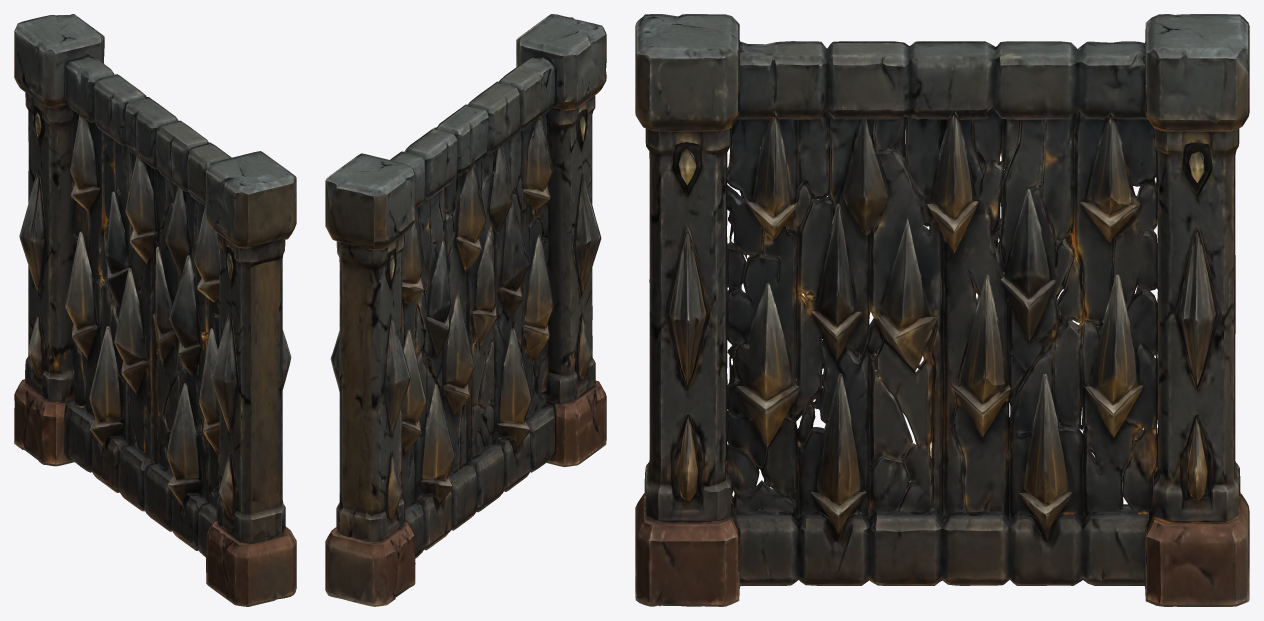
File: HellWall_SpikeBasalt_A_UnrealReady.glb
The picture shows the model from 3 angles, left to right: view 1: azimuth 30°, elevation 25°; view 2: azimuth 150°, elevation 25°; view 3: azimuth 270°, elevation 25°; orthographic projection. The views are drawn at different scales.
Parts seen in each view (by area): view 1: HellWall_SpikeBasalt_A_UnrealReady; view 2: HellWall_SpikeBasalt_A_UnrealReady; view 3: HellWall_SpikeBasalt_A_UnrealReady.
Boxes of the visible parts, x1,y1,x2,y2 form: HellWall_SpikeBasalt_A_UnrealReady: (14,14,296,606); HellWall_SpikeBasalt_A_UnrealReady: (325,14,606,606); HellWall_SpikeBasalt_A_UnrealReady: (635,14,1249,606).
Bounding box in the file's own units: 1.2 × 6 × 6.
1 material, 1 textured.
